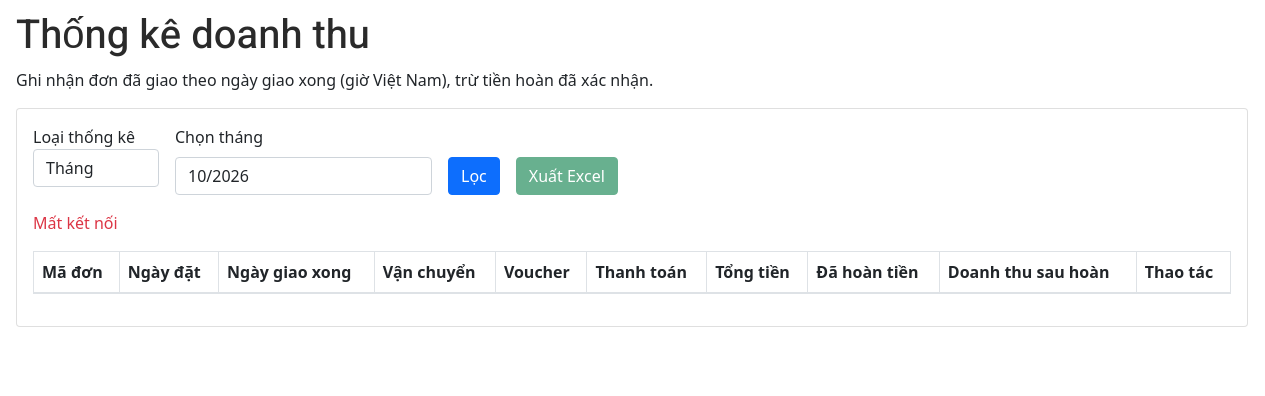
network errors are visible and filter can retry without leaving loading state stuck
Expected: the message reads "Mất kết nối", [33, 212, 118, 234]
What coordinates should you click on to do the following:
click the button "Lọc"
I would click on:
 (474, 176)
Its box is [448, 157, 500, 195].
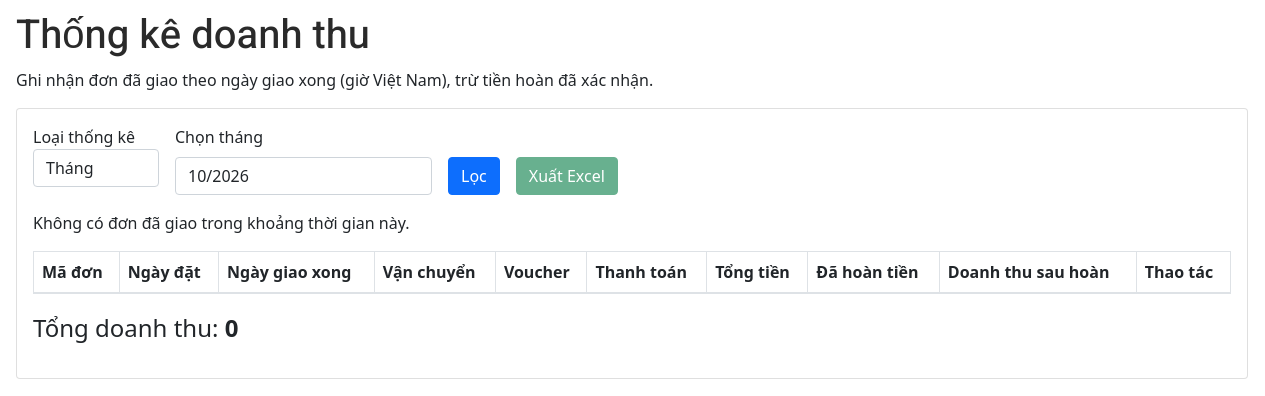
Expected: the text "Không có đơn đã giao trong khoảng thời gian này." is shown, [33, 212, 410, 234]
